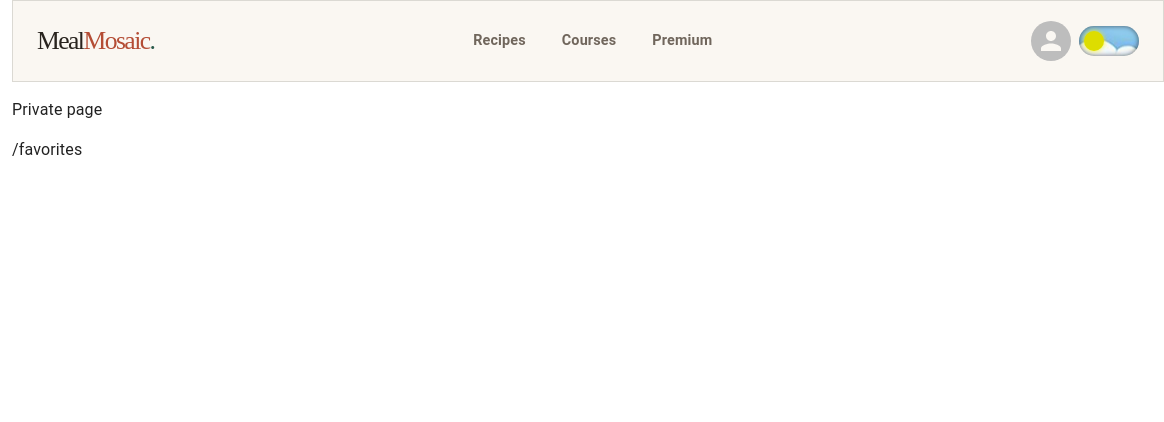
Scenario: logout HTTP 200 updates the header, navigates home and clears authenticated caches
Click the button with test id "PersonIcon": click(1051, 41) [1031,21,1071,61]
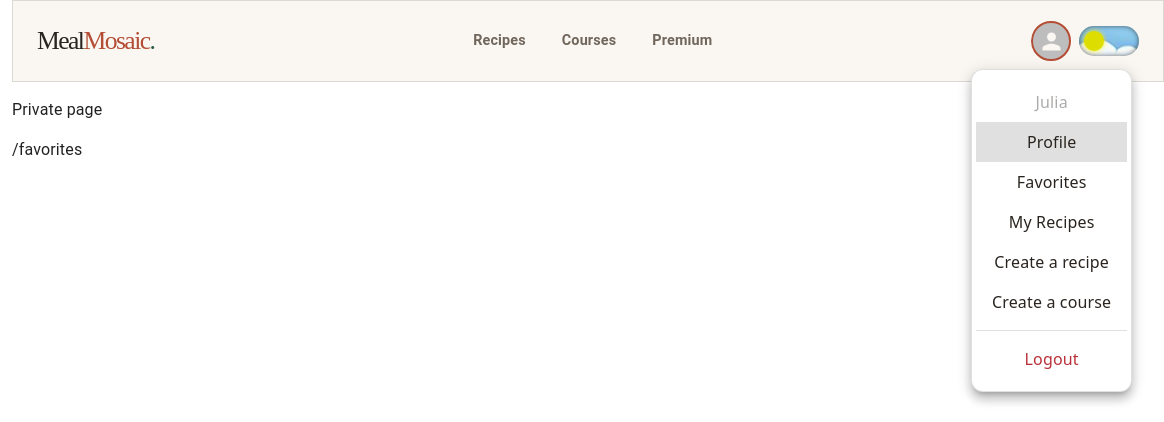
Click the menu item "Logout": click(1052, 359) [1025,348,1079,370]
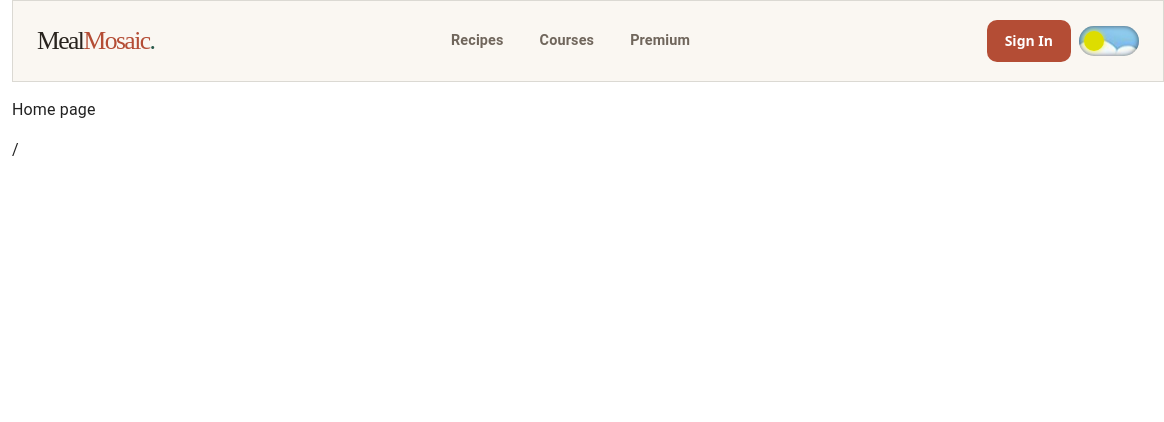
Check: the text "Home page" is shown, box [12,100,96,119]
Check: the button "Sign In" is shown, box [987,20,1071,62]
Check: the icon with test id "PersonIcon" is gone
